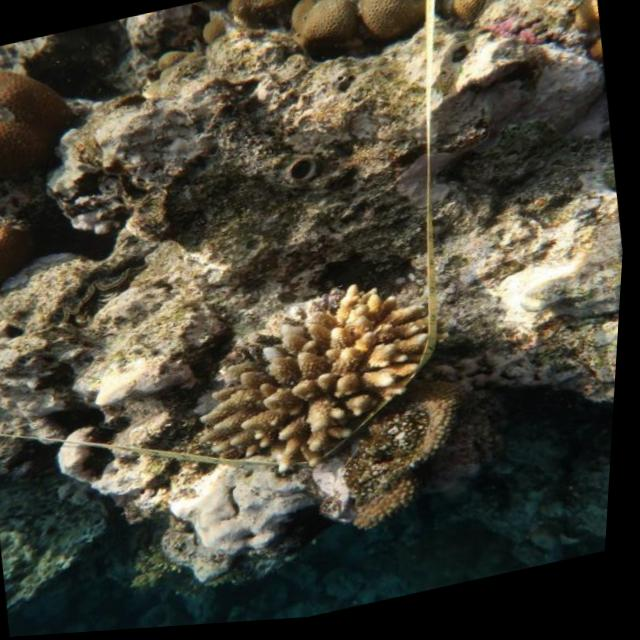Healthy Coral: (181, 268, 454, 486), (338, 394, 481, 540), (270, 0, 443, 63), (0, 33, 75, 176), (0, 179, 58, 308)
